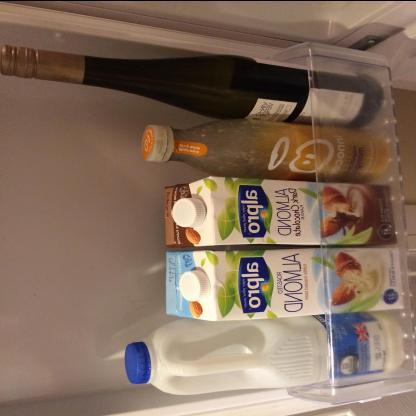cam: (2, 42, 384, 126), (140, 114, 390, 182)
karton: (162, 246, 406, 320), (160, 173, 396, 248)
plastik: (122, 308, 404, 398)
